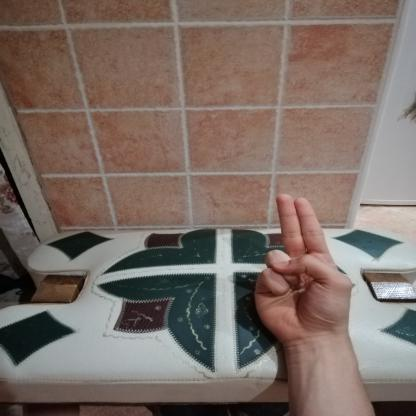TA: (239, 182, 369, 354)
